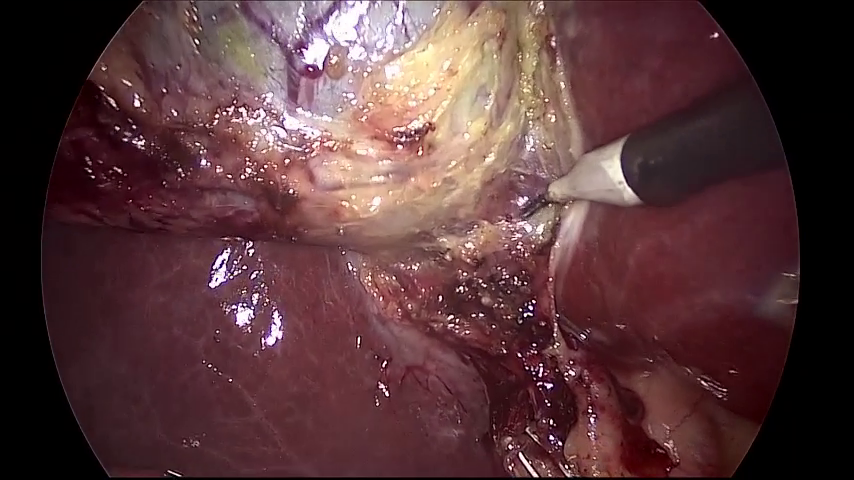lhook: (520, 73, 787, 217)
